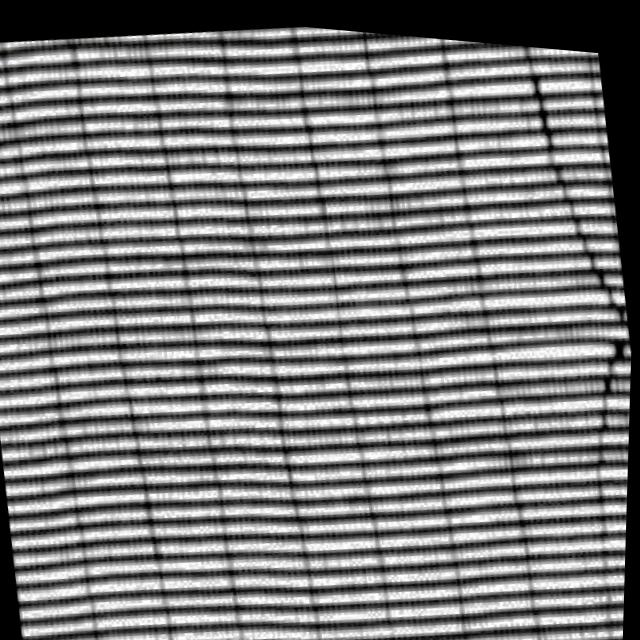Stitch: (525, 132, 638, 512)
